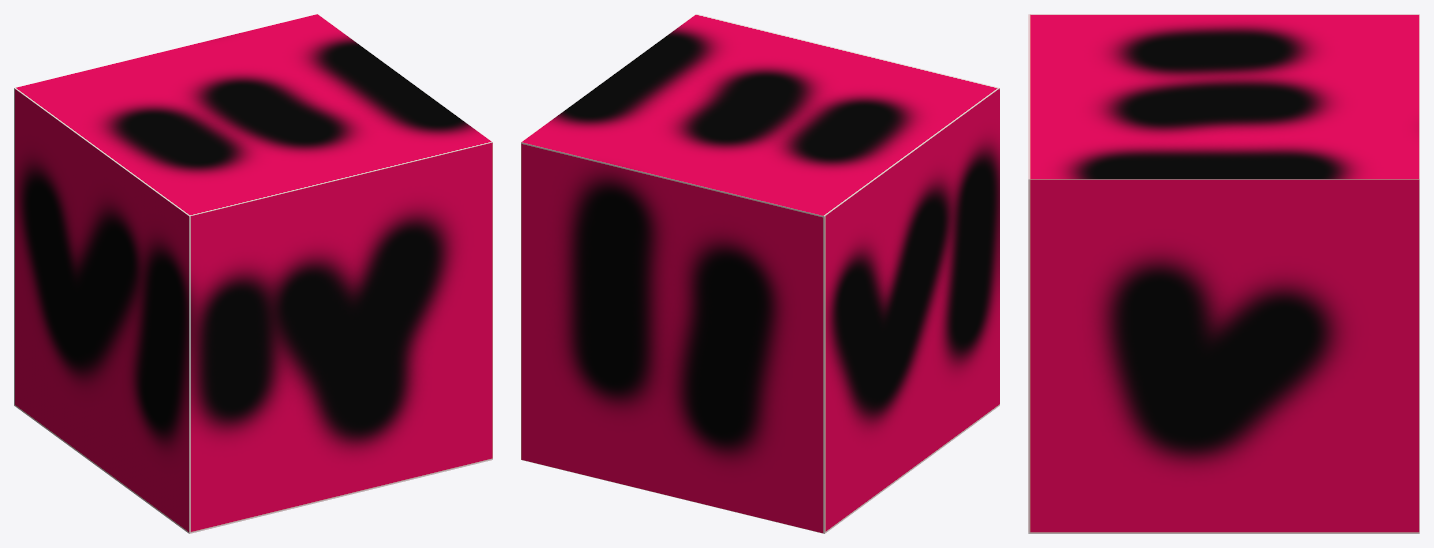
The model's file is purpleCubeFull_V3.fbx.
The picture shows the model from 3 angles, left to right: view 1: azimuth 30°, elevation 25°; view 2: azimuth 150°, elevation 25°; view 3: azimuth 270°, elevation 25°; orthographic projection. The views are drawn at different scales.
Visible parts, largest first — view 1: pCube1; view 2: pCube1; view 3: pCube1.
Boxes of the visible parts, x1,y1,x2,y2 form: pCube1: (14,14,492,533); pCube1: (521,14,999,533); pCube1: (1028,14,1419,533).
Bounding box in the file's own units: 100 × 100 × 100.
2 materials, 1 textured.
